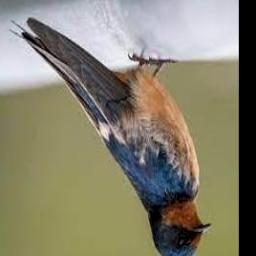Swallow: (10, 17, 210, 256)
